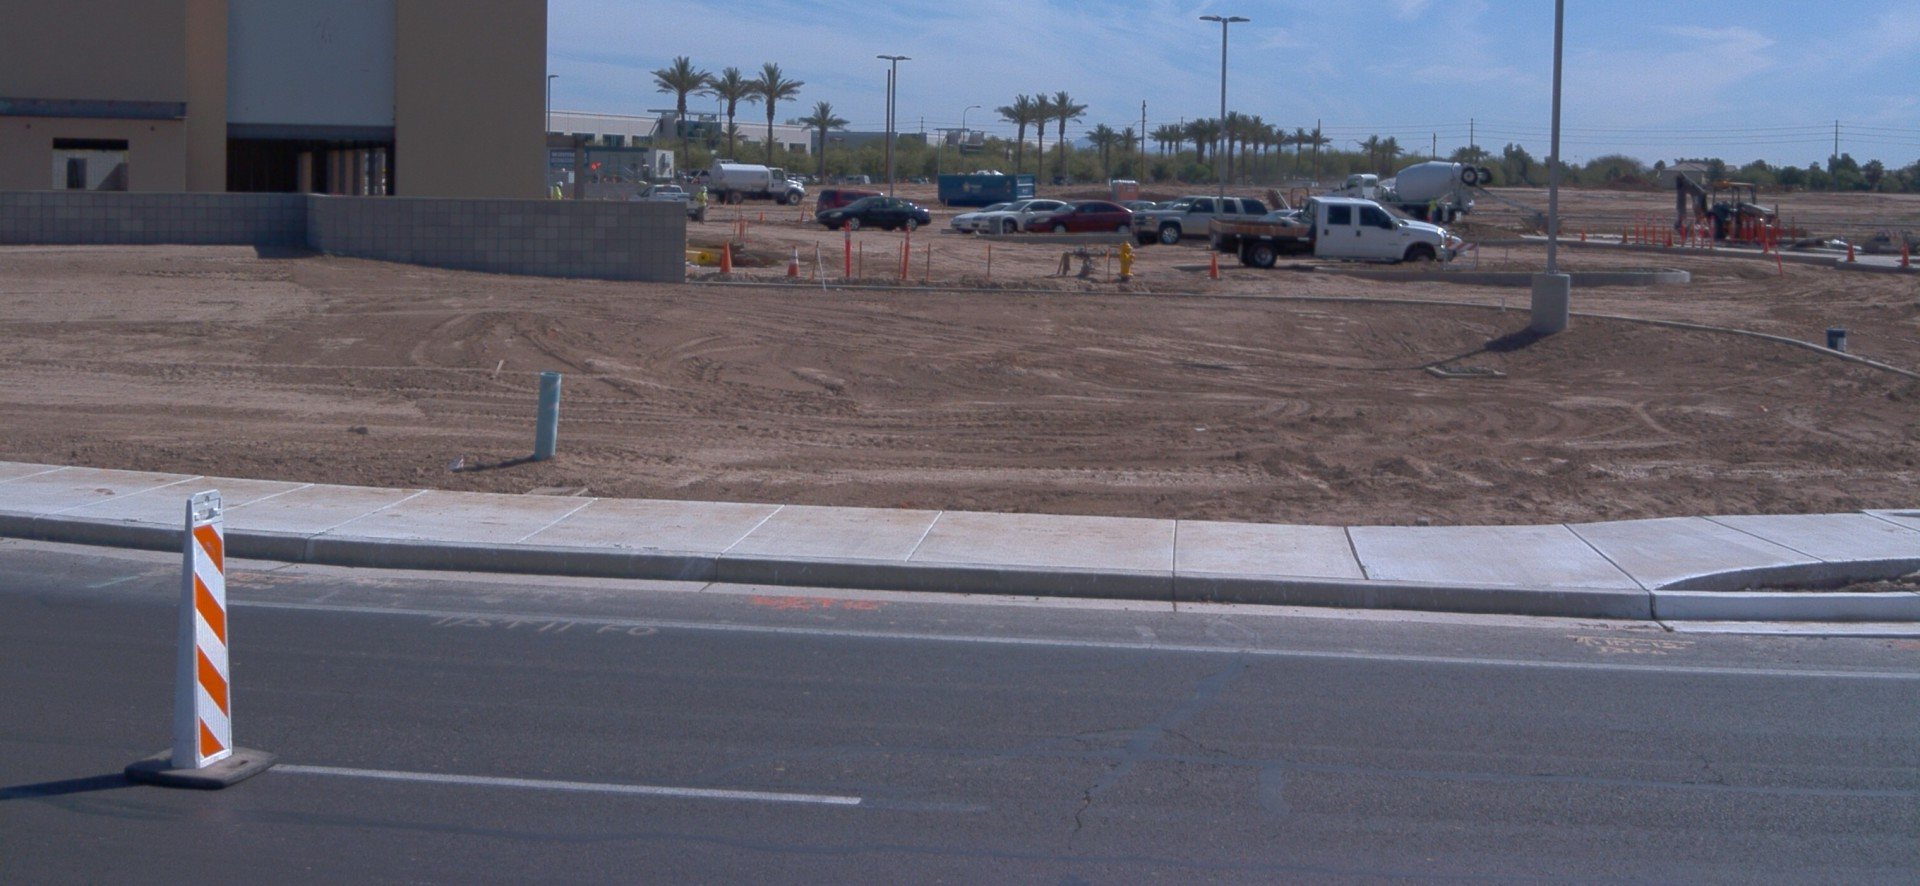TYPE_PEDESTRIAN: (695, 182, 710, 226), (1425, 193, 1440, 225), (552, 178, 567, 201)
TYPE_VEHICLE: (1204, 197, 1442, 271), (1319, 160, 1542, 226), (1675, 168, 1805, 249), (1131, 196, 1270, 248), (815, 194, 932, 233), (1023, 195, 1136, 235), (709, 164, 804, 211), (966, 195, 1068, 235), (627, 183, 706, 224), (815, 188, 884, 219), (950, 202, 1014, 233), (1264, 180, 1311, 214), (1435, 232, 1467, 262), (1256, 208, 1307, 221), (1126, 196, 1163, 213), (1145, 199, 1173, 210)
